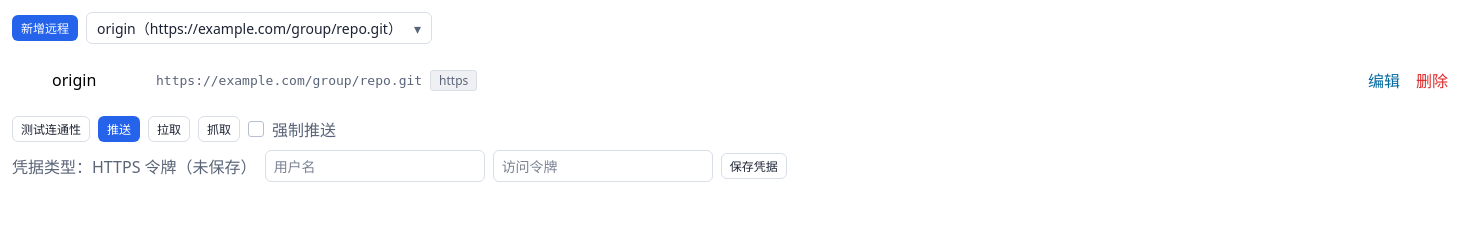
Test: RemoteManager（T6-03 远程与凭据） › 列出远程仓库并可测试连通性
Check: the list with test id "remote-list" shows "origin", box [52, 69, 96, 91]
Check: the list with test id "remote-list" shows "https://example.com/group/repo.git", box [156, 72, 422, 88]
Click the button with test id "remote-test": point(51, 129) [12, 116, 90, 142]
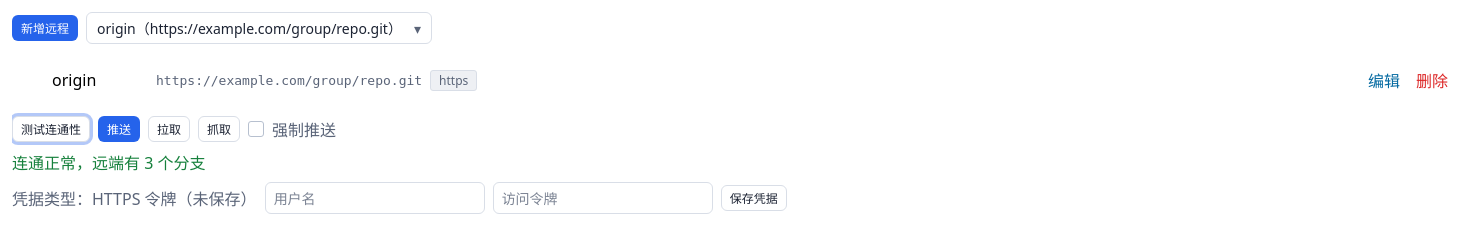
Check: the message with test id "remote-test-result" reads "连通正常，远端有 3 个分支", box [12, 152, 206, 174]
